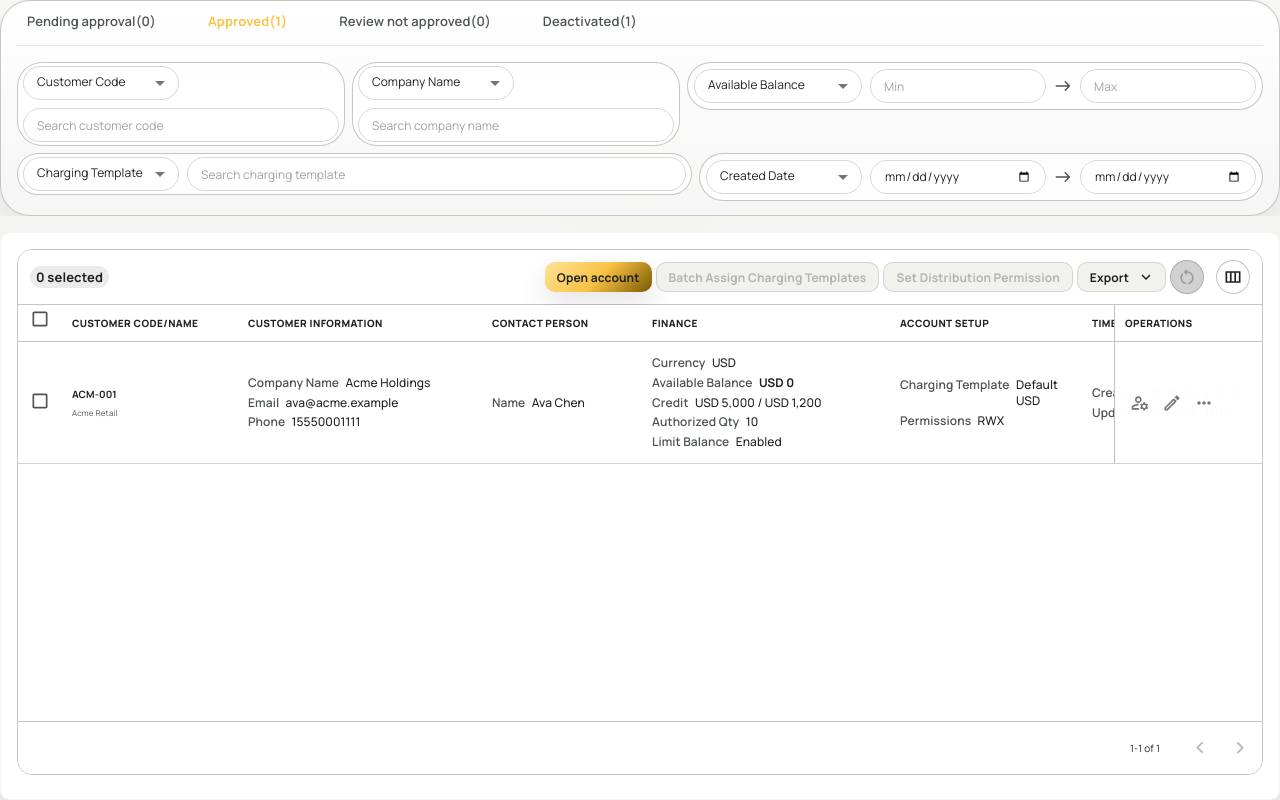
it: ClientsPage › closes the create dialog and shows a success toast after creating a client
This screenshot has width=1280, height=800.
Expected: the text "Acme Retail" is shown, 72,407 -> 118,418
Click the button "Open account" at (598, 277), box 545,262 -> 652,292
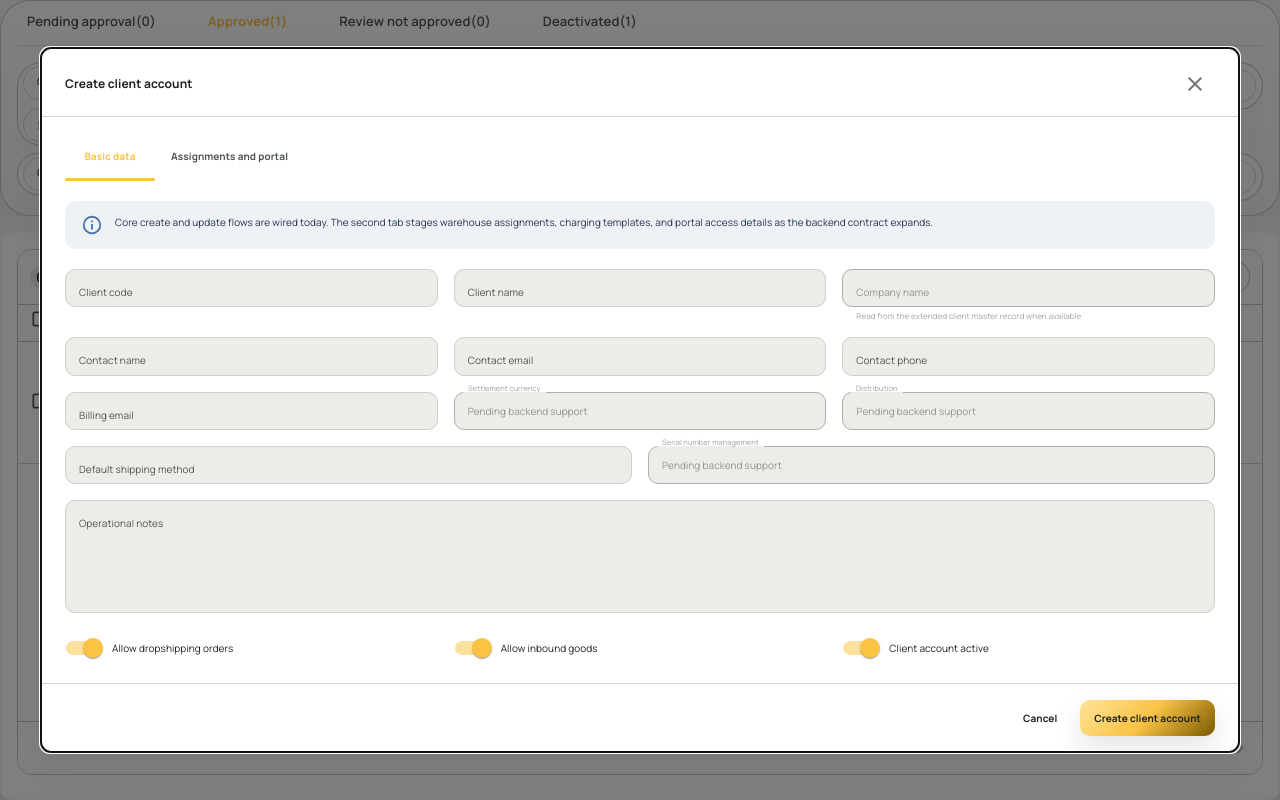
Expected: the button named "Close client account dialog" is shown, 1175,64 -> 1215,104
Expected: the heading "Create client account" is shown, 65,76 -> 193,92
Type "FRS-003" into the field labelled "Client code" at (251, 288), box 65,269 -> 438,307
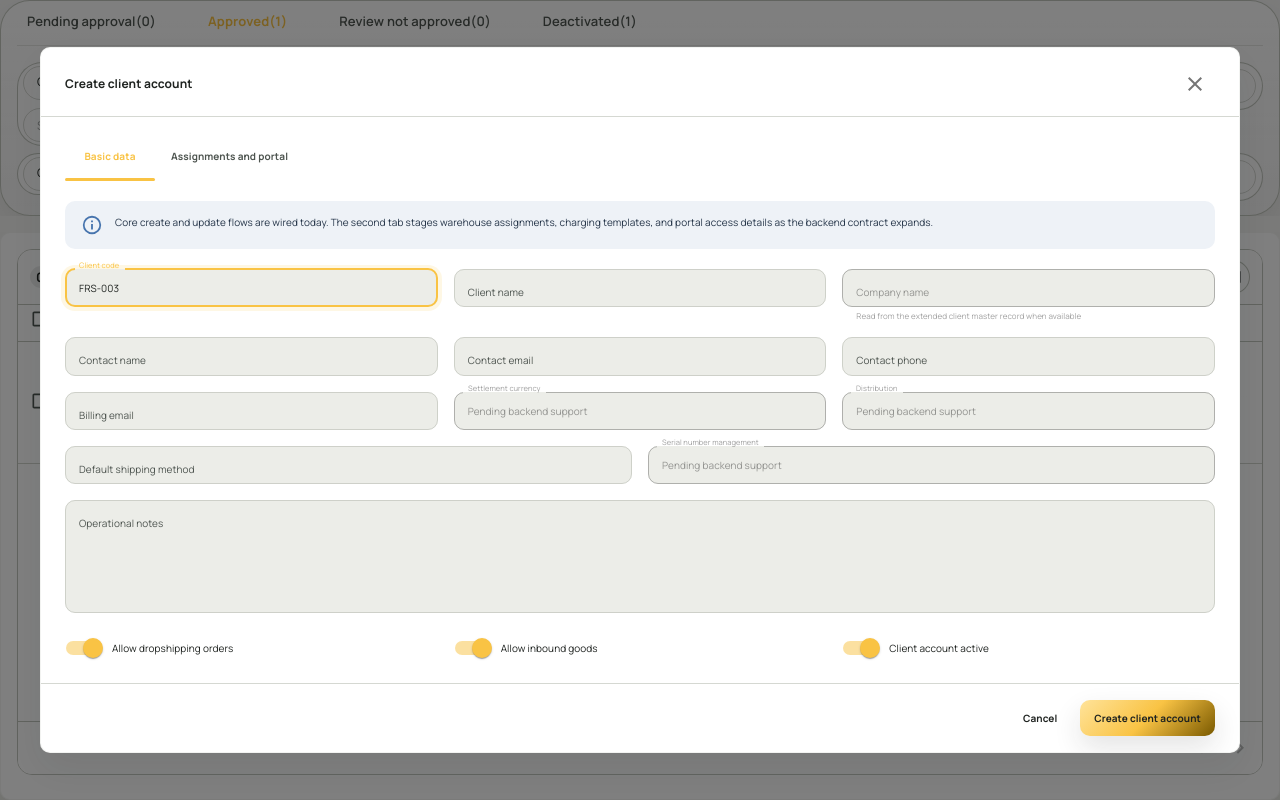
Type "Fresh Client" into the field labelled "Client name" at (640, 288), box 454,269 -> 826,307
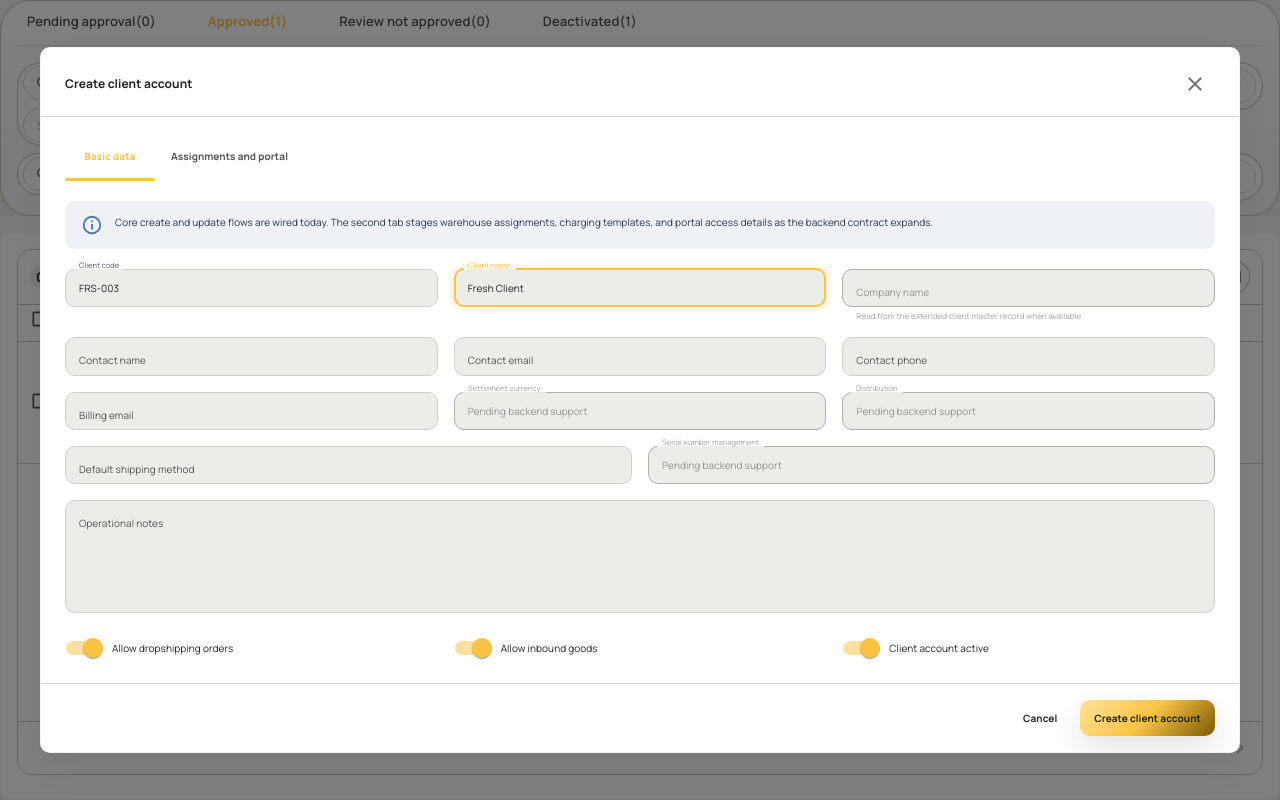
Click the button "Create client account" at (1148, 718), box 1080,700 -> 1215,736
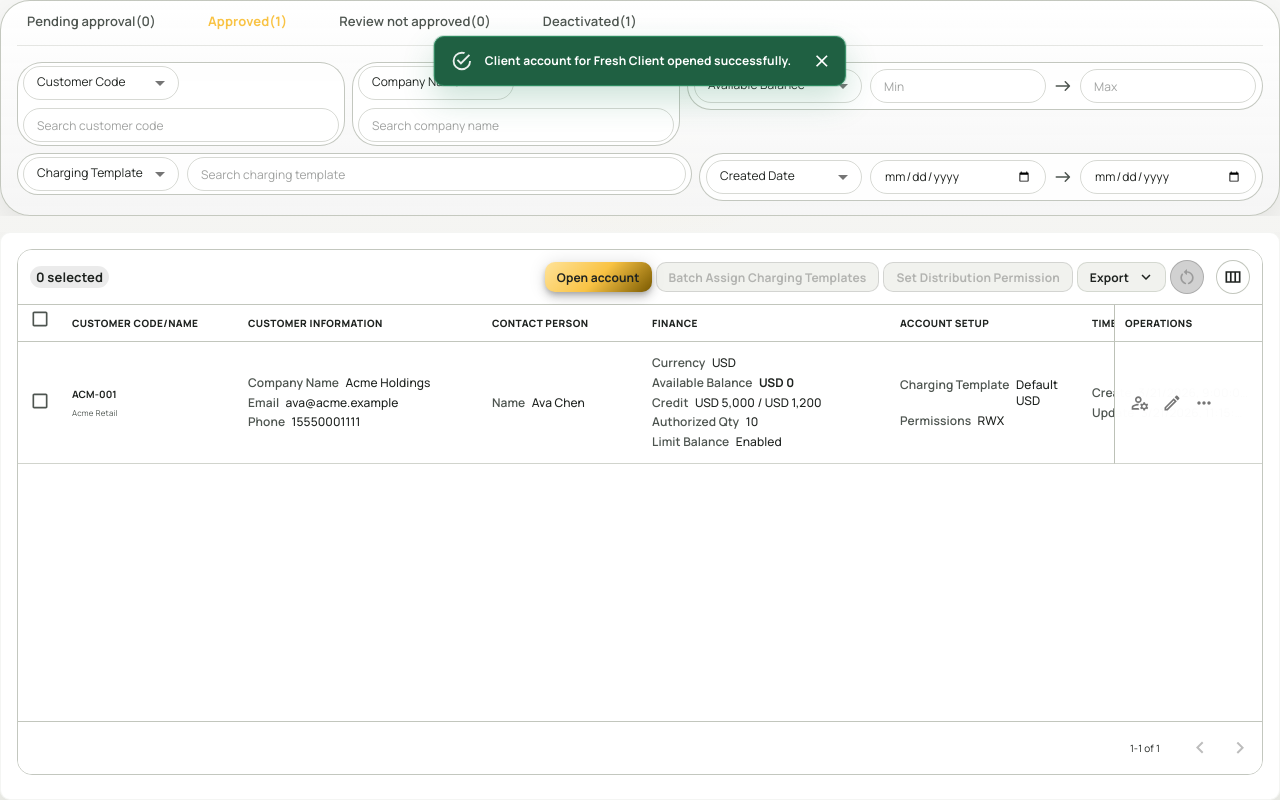
Expected: the text "Client account for Fresh Client opened successfully." is shown, 485,52 -> 791,69
